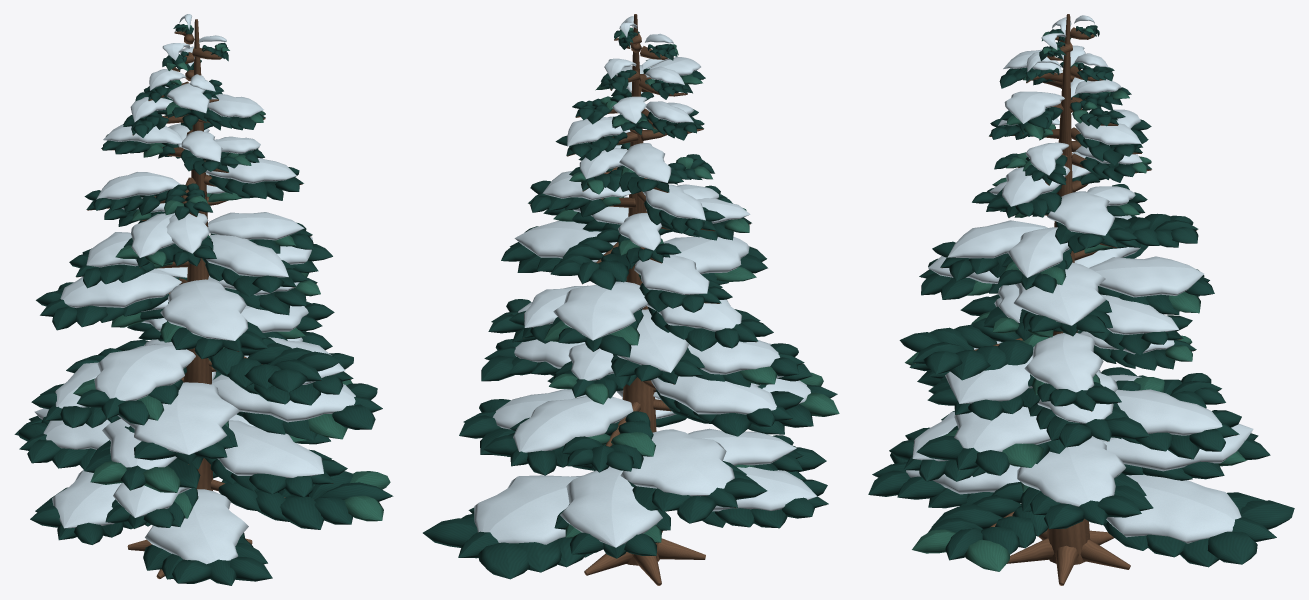
Rendered from pine_1.glb.
3 renders of one model, left to right at view 1: azimuth 30°, elevation 25°; view 2: azimuth 150°, elevation 25°; view 3: azimuth 270°, elevation 25°, orthographic. The views are drawn at different scales.
Visible parts, largest first — view 1: pine_1; view 2: pine_1; view 3: pine_1.
Part boxes in pixels (bbox=[...]): pine_1: bbox=[14, 14, 393, 585]; pine_1: bbox=[423, 14, 839, 585]; pine_1: bbox=[868, 14, 1294, 585].
Size of the model in its own units: 2.8 by 4.37 by 3.09.
4 materials, 4 textured.
